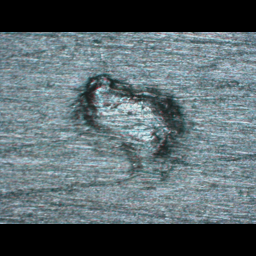d: (67, 66, 190, 181)
